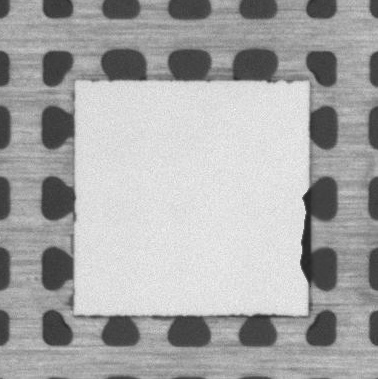DIE_BROKEN: (296, 188, 313, 282)
